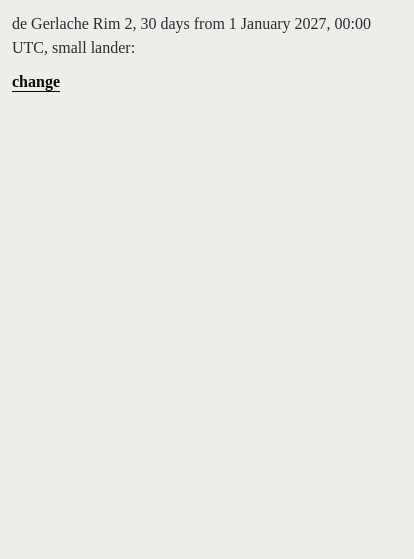
Scenario: PeriodBand › folds the four fields into one line on a phone, so the answer is on the first screen, and opens them on "change" (spec 6)
Later steps or results of the test are not shown.
Expected: the text "de Gerlache Rim 2, 30 days from 1 January 2027, 00:00 UTC, small lander:" is shown, [12,12,402,60]
What coordinates should you click on to do the following:
click the button "change"
I would click on:
 (36, 82)
Its box is [12,60,60,104].
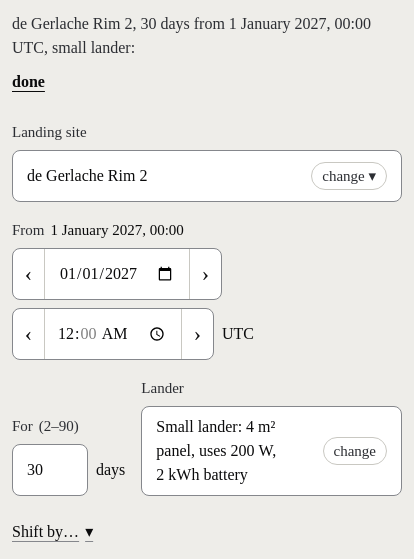
Expected: the button "done" is expanded, [12,60,45,104]
